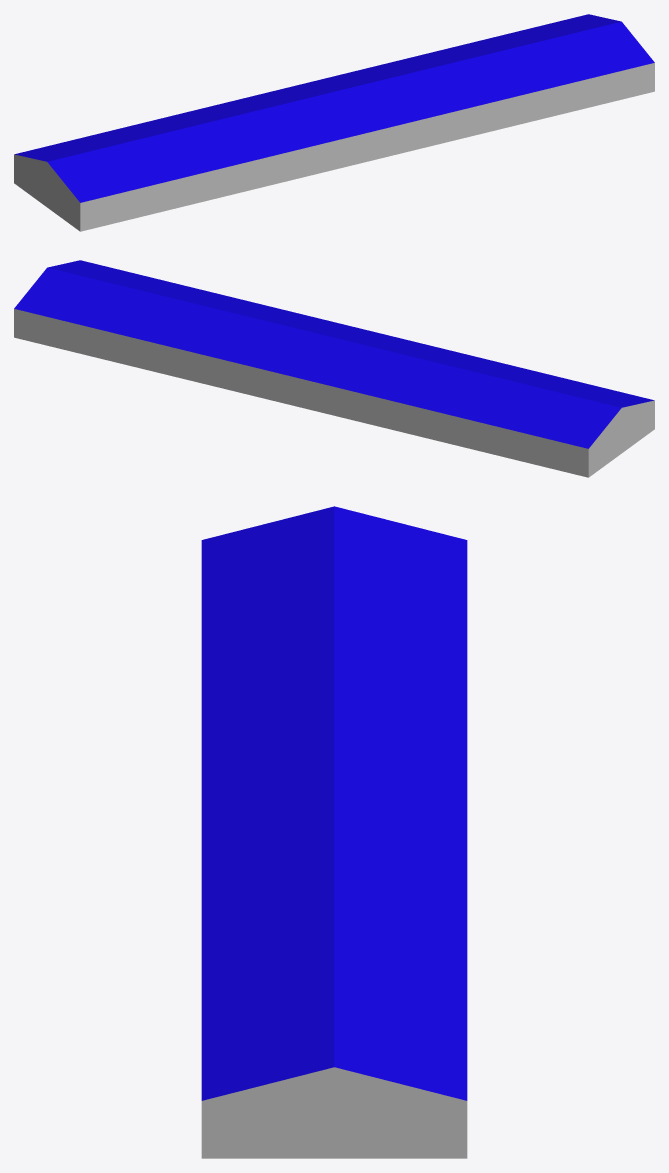
File: Accelerator.fbx
3 renders of one model, top to bottom at view 1: azimuth 30°, elevation 25°; view 2: azimuth 150°, elevation 25°; view 3: azimuth 270°, elevation 25°, orthographic. The views are drawn at different scales.
Visible parts, largest first — view 1: Cube; view 2: Cube; view 3: Cube.
Boxes of the visible parts, box(x1,y1,x2,y2) form: Cube: box(14, 14, 654, 231); Cube: box(14, 260, 654, 477); Cube: box(201, 506, 467, 1158).
Bounding box in the file's own units: 500 × 38 × 100.
